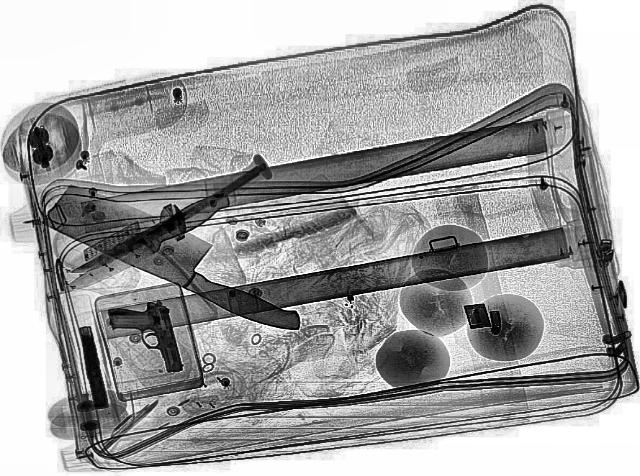Gun: (105, 298, 183, 378), (75, 325, 109, 409)
Knife: (31, 180, 332, 337), (66, 164, 272, 280), (45, 185, 239, 300)
